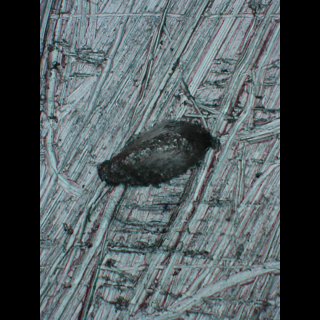d: (92, 118, 225, 193)
